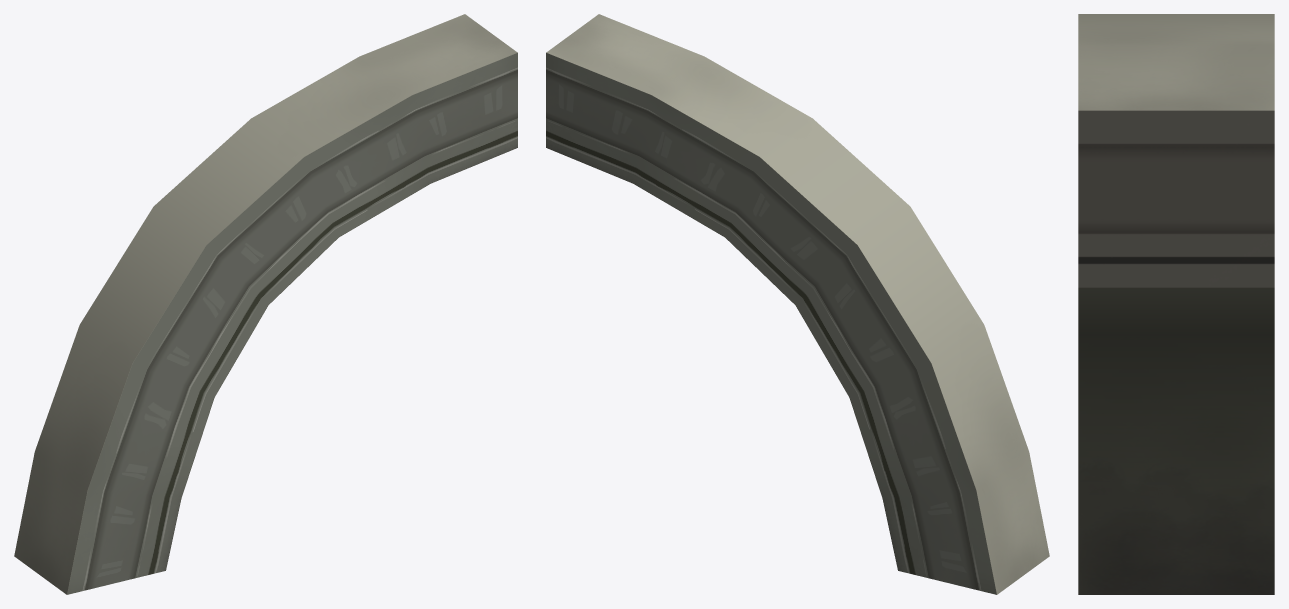
File: Dg_01_StoneObjects_06.FBX
3 renders of one model, left to right at view 1: azimuth 30°, elevation 25°; view 2: azimuth 150°, elevation 25°; view 3: azimuth 270°, elevation 25°, orthographic. The views are drawn at different scales.
Visible parts, largest first — view 1: Dg_01_StoneObjects_06; view 2: Dg_01_StoneObjects_06; view 3: Dg_01_StoneObjects_06.
Part boxes in pixels (box(x1,y1,x2,y2)): Dg_01_StoneObjects_06: box(14, 14, 517, 594); Dg_01_StoneObjects_06: box(546, 14, 1049, 594); Dg_01_StoneObjects_06: box(1078, 14, 1274, 594).
Size of the model in its own units: 4.46 by 4.09 by 0.9046.
